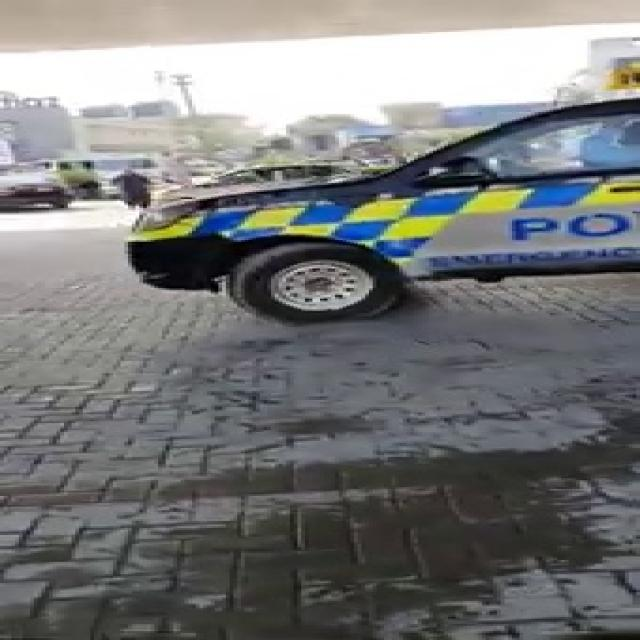police: (128, 50, 640, 343)
